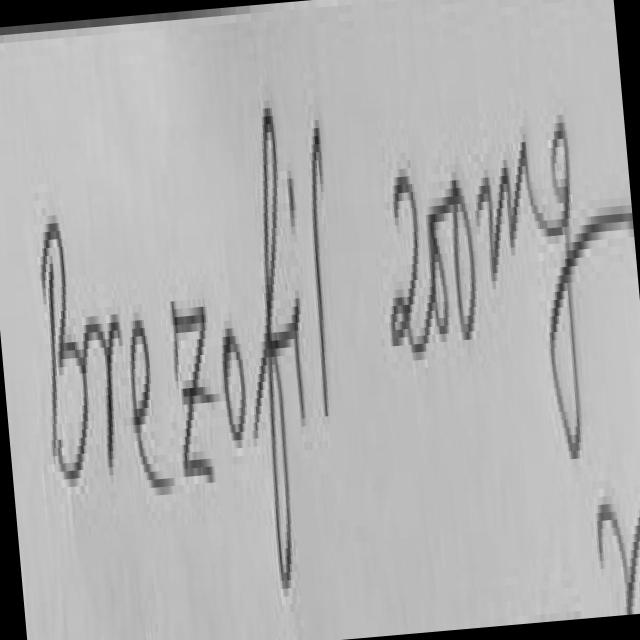0: (448, 176, 477, 346), (425, 213, 449, 333)
2: (392, 168, 434, 352)
B: (39, 212, 88, 487)
e: (127, 311, 173, 492)
f: (253, 108, 293, 584)
g: (548, 119, 590, 456)
i: (293, 289, 307, 414), (287, 183, 294, 234)
l: (310, 119, 329, 412)
m: (475, 124, 556, 285)
o: (222, 328, 245, 436)
r: (83, 303, 121, 464)
z: (172, 301, 214, 478)
